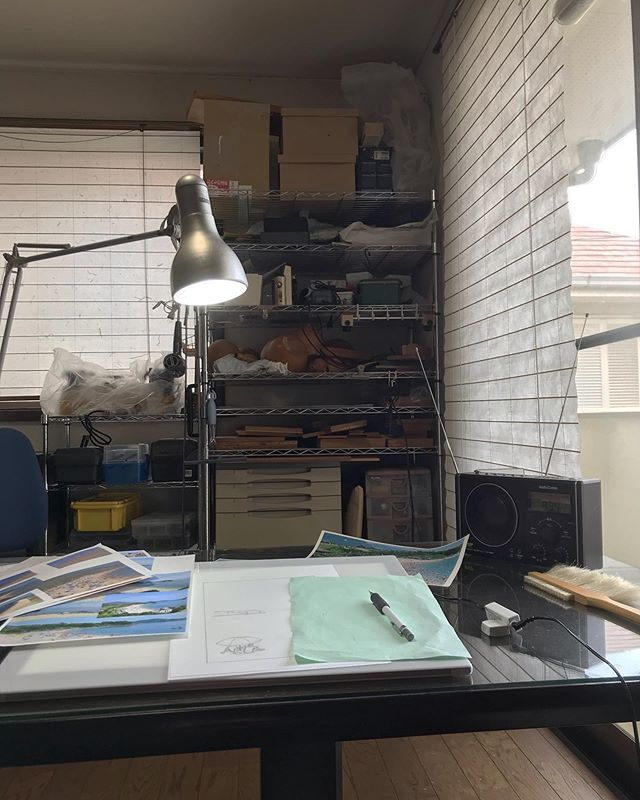pen: (360, 585, 424, 644)
radio: (445, 464, 601, 557)
table: (1, 569, 627, 800)
